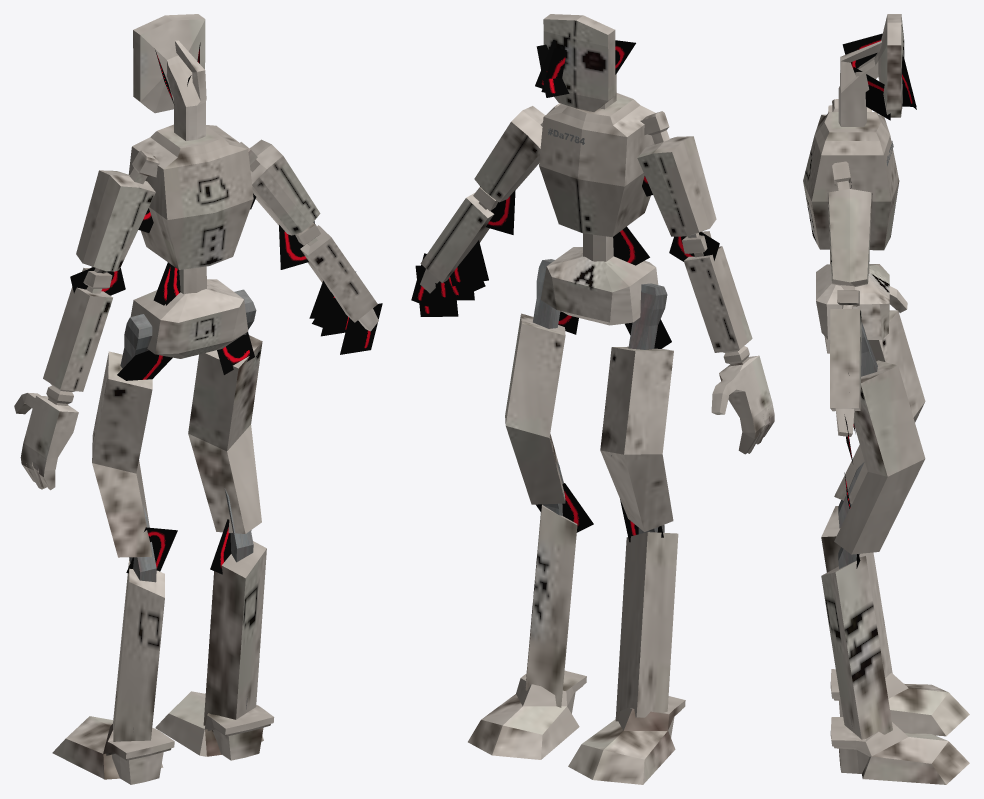
Rendered from drift.fbx.
3 renders of one model, left to right at view 1: azimuth 30°, elevation 25°; view 2: azimuth 150°, elevation 25°; view 3: azimuth 270°, elevation 25°, orthographic.
Parts seen in each view (by area): view 1: Cube, Cube.003, Cube.005, Cube.007, Cube.006, Cube.004, Cube.001, Cube.002, Plane.007, Plane.013, Plane.006, Plane.008 (+3 smaller); view 2: Cube.003, Cube, Cube.005, Cube.007, Cube.006, Cube.004, Cube.001, Cube.002, Plane.012, Plane.004, Plane, Plane.009 (+2 smaller); view 3: Cube, Cube.003, Cube.005, Cube.006, Cube.004, Cube.001, Cube.002, Plane.017, Cube.007, Plane.015, Plane.019.
Part boxes in pixels (x1,y1,x2,y2): Cube: (128,14,253,294); Cube.003: (92,335,262,557); Cube.005: (113,541,266,741); Cube.007: (14,150,159,490); Cube.006: (52,691,274,784); Cube.004: (240,139,378,331); Cube.001: (130,279,248,358); Cube.002: (120,289,256,729); Plane.007: (117,350,172,380); Plane.013: (340,303,382,354); Plane.006: (217,332,254,374); Plane.008: (126,527,177,573); Cube.003: (505,313,673,531); Cube: (539,14,655,261); Cube.005: (525,504,678,721); Cube.007: (637,111,774,454); Cube.006: (468,670,685,784); Cube.004: (420,103,560,293); Cube.001: (540,247,658,325); Cube.002: (533,259,667,533); Plane.012: (450,240,488,286); Plane.004: (613,226,649,265); Plane: (480,186,515,234); Plane.009: (536,483,593,532); Cube: (803,14,904,273); Cube.003: (834,310,925,554); Cube.005: (821,506,892,739); Cube.006: (830,669,969,784); Cube.004: (827,161,872,436); Cube.001: (816,264,889,339); Cube.002: (838,322,877,728); Plane.017: (853,66,890,120); Cube.007: (824,99,907,353); Plane.015: (842,33,882,68); Plane.019: (902,56,916,106).
Size of the model in its own units: 281 by 558 by 117.
